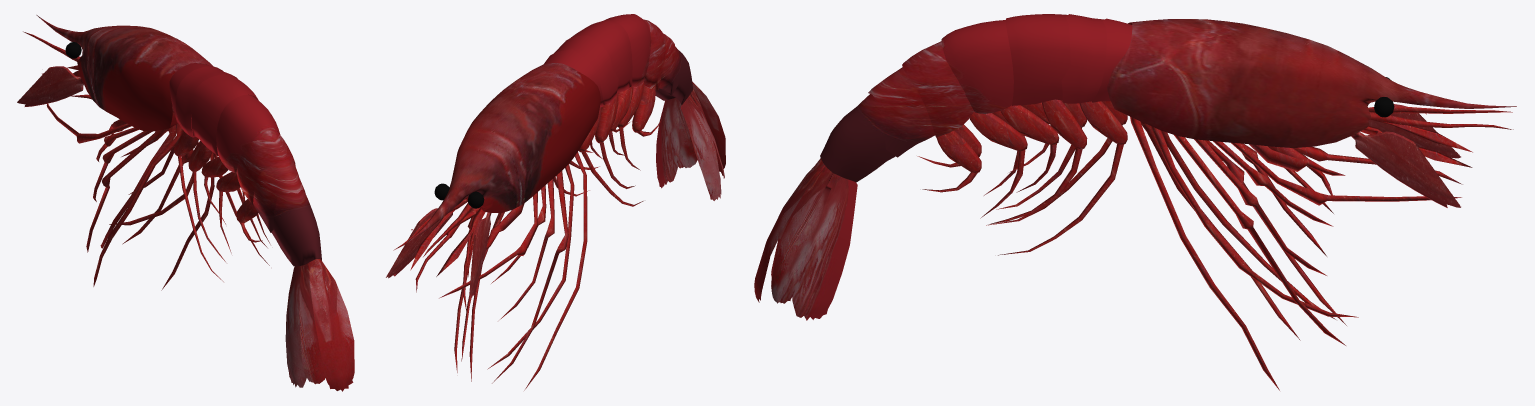
File: lprawn1.obj
The picture shows the model from 3 angles, left to right: view 1: azimuth 30°, elevation 25°; view 2: azimuth 150°, elevation 25°; view 3: azimuth 270°, elevation 25°; orthographic projection. The views are drawn at different scales.
Visible parts, largest first — view 1: LPRMAIN, LPRTa3, LPRBOD10, LPRBOD04, LPRBOD03, LPRBOD05, LPRBOD06, LPRTai2, LPRAnt, LPRTai1, LPRBOD02, LPRLgL07 (+15 smaller); view 2: LPRMAIN, LPRTai1, LPRBOD03, LPRTai5, LPRBOD02, LPRBOD04, LPRBOD05, LPRLgL07, LPRLgL01, LPRAnt, LPRAnt1, LPRLgL06 (+19 smaller); view 3: LPRMAIN, LPRBOD03, LPRBOD04, LPRTai5, LPRBOD10, LPRTai4, LPRBOD05, LPRAnt1, LPRBOD06, LPRBOD02, LPRLgR10, LPRLgR04 (+19 smaller).
Part boxes in pixels (box(x1,y1,x2,y2)): LPRMAIN: box(36, 15, 213, 131); LPRTa3: box(308, 259, 354, 391); LPRBOD10: box(271, 189, 321, 266); LPRBOD04: box(216, 95, 280, 172); LPRBOD03: box(190, 74, 258, 156); LPRBOD05: box(236, 129, 295, 204); LPRBOD06: box(253, 160, 305, 232); LPRTai2: box(299, 263, 325, 384); LPRAnt: box(17, 66, 83, 106); LPRTai1: box(285, 266, 306, 387); LPRBOD02: box(175, 66, 237, 137); LPRLgL07: box(93, 123, 183, 286); LPRMAIN: box(405, 63, 600, 243); LPRTai1: box(681, 94, 721, 200); LPRBOD03: box(571, 20, 632, 93); LPRTai5: box(656, 98, 679, 188); LPRBOD02: box(554, 35, 618, 104); LPRBOD04: box(604, 14, 651, 86); LPRBOD05: box(643, 19, 665, 90); LPRLgL07: box(524, 152, 587, 390); LPRLgL01: box(492, 170, 568, 383); LPRAnt: box(469, 212, 491, 298); LPRAnt1: box(386, 208, 452, 278); LPRLgL06: box(487, 164, 574, 369); LPRMAIN: box(1107, 19, 1516, 147); LPRBOD03: box(1005, 14, 1070, 105); LPRBOD04: box(941, 20, 1013, 113); LPRTai5: box(792, 175, 857, 320); LPRBOD10: box(820, 94, 895, 182); LPRTai4: box(771, 166, 836, 303); LPRBOD05: box(902, 41, 974, 137); LPRAnt1: box(1351, 131, 1460, 207); LPRBOD06: box(868, 67, 934, 157); LPRBOD02: box(1061, 14, 1106, 103); LPRLgR10: box(1130, 116, 1279, 390); LPRLgR04: box(1150, 125, 1358, 317).
Bounding box in the file's own units: 1945 × 5437 × 10557.
